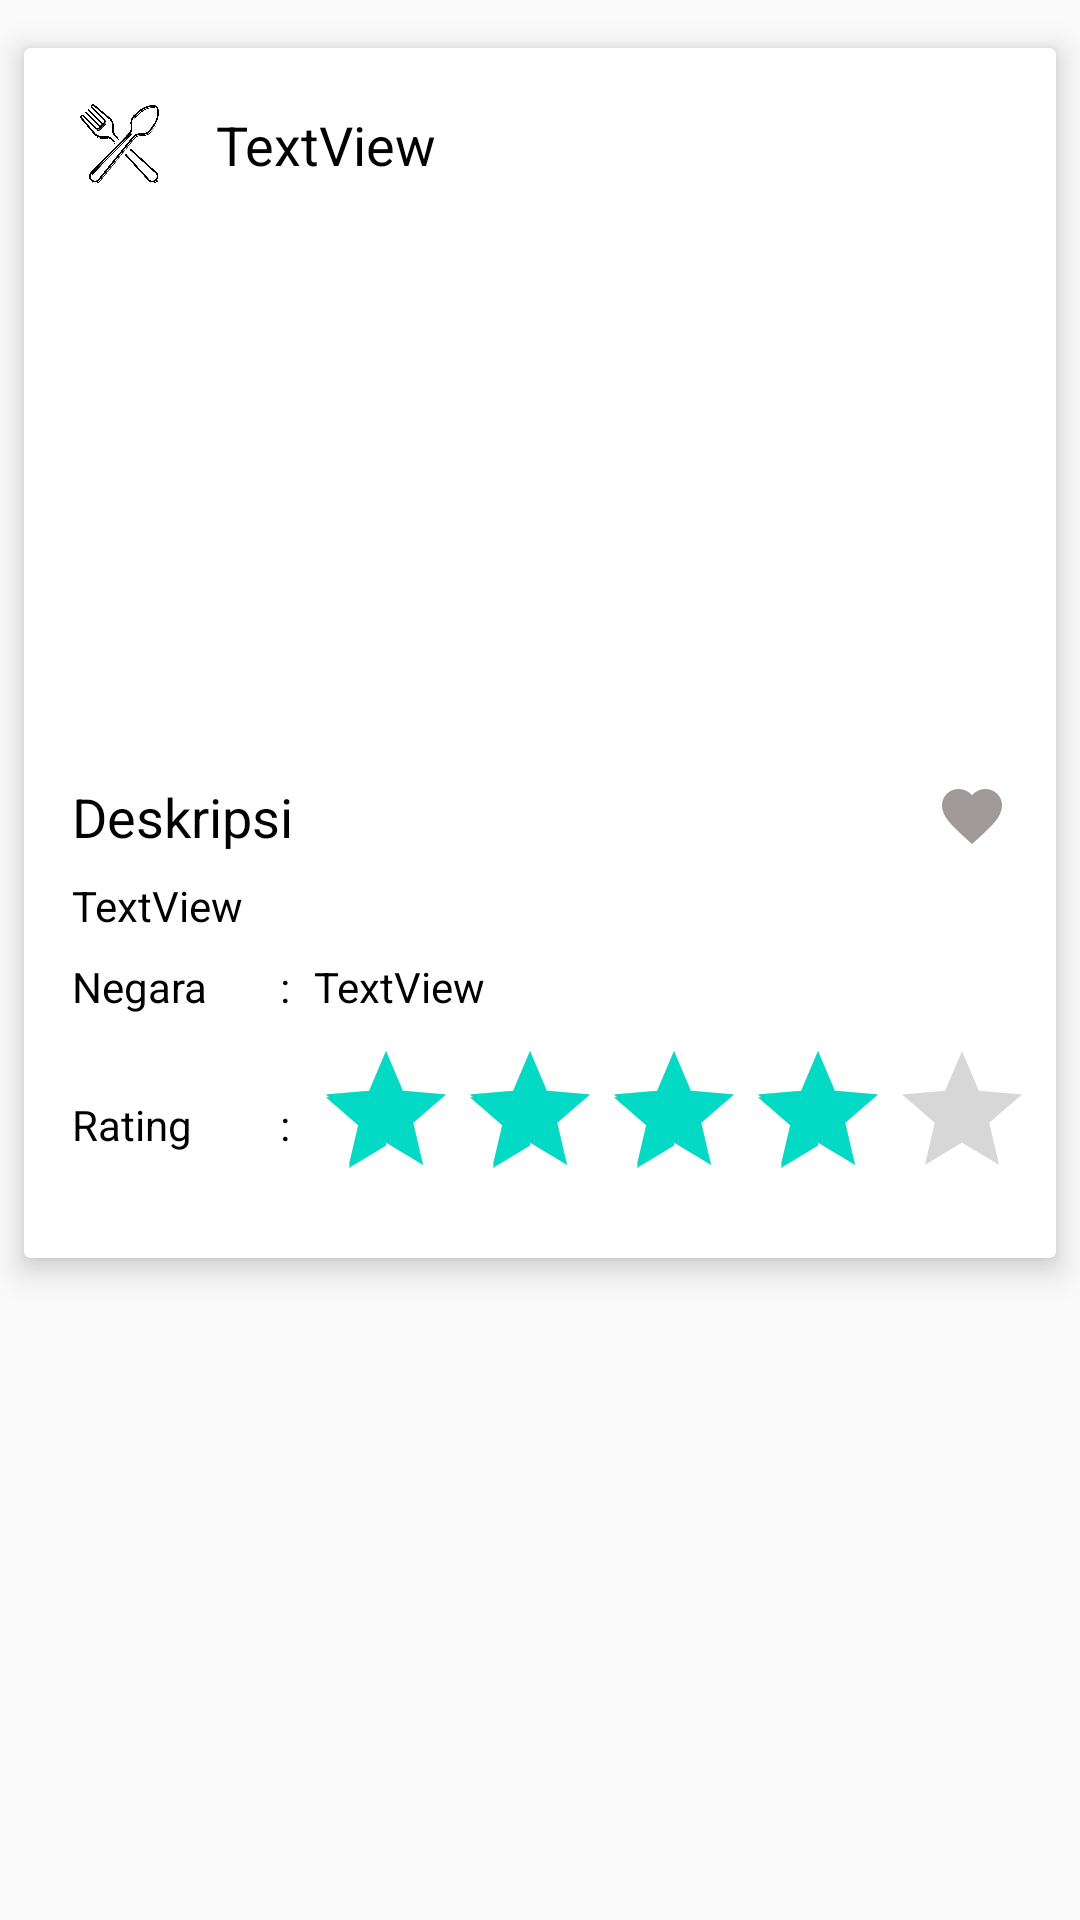

Point at icon controls on the screen. Image size 1080w x 1920h, points as (x,y).
not favorite: (972,816)
